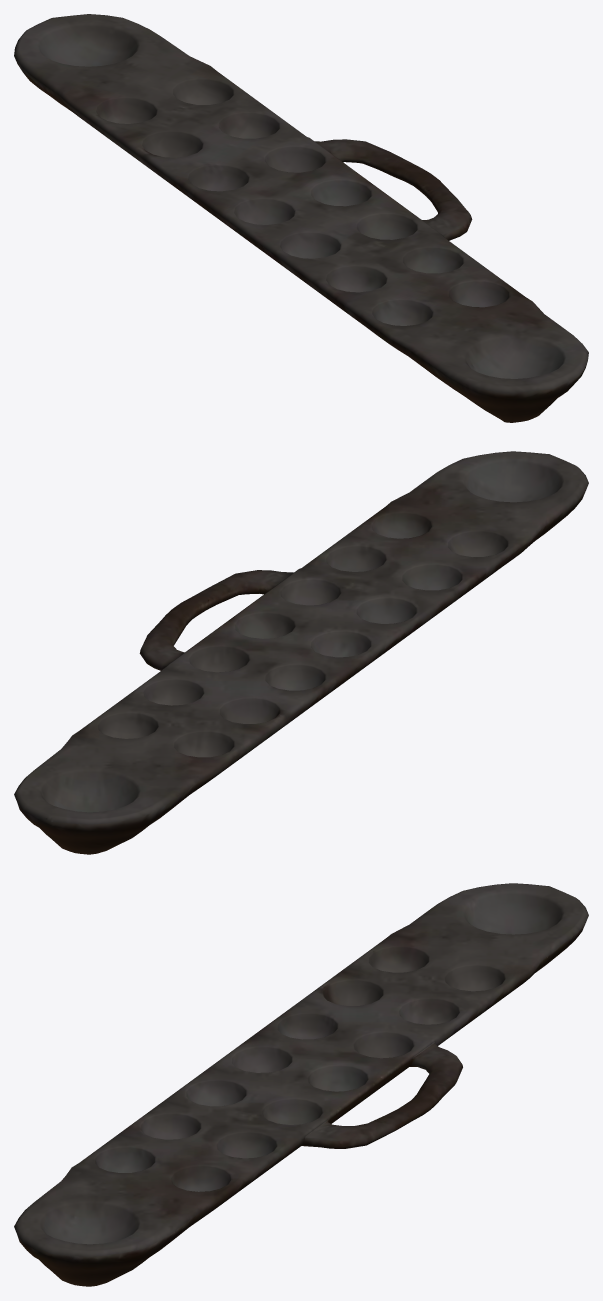
Rendered from sungka_board.glb.
3 renders of one model, top to bottom at view 1: azimuth 30°, elevation 25°; view 2: azimuth 150°, elevation 25°; view 3: azimuth 330°, elevation 25°, orthographic.
Visible parts, largest first — view 1: sungka_board; view 2: sungka_board; view 3: sungka_board.
Boxes of the visible parts, box(x1,y1,x2,y2) form: sungka_board: box(14, 14, 588, 422); sungka_board: box(14, 451, 588, 854); sungka_board: box(14, 883, 588, 1286).
Bounding box in the file's own units: 0.14 × 0.0352 × 0.6006.
1 material, 1 textured.
